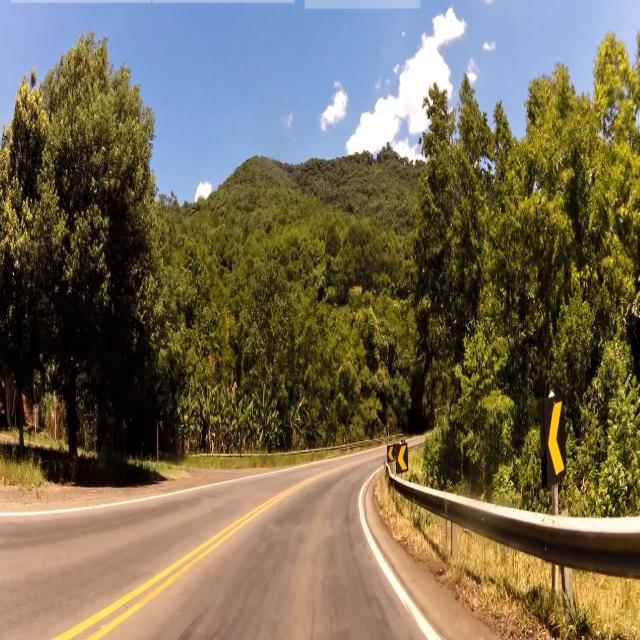Del: (542, 397, 569, 487), (397, 443, 410, 474), (386, 444, 394, 465)
